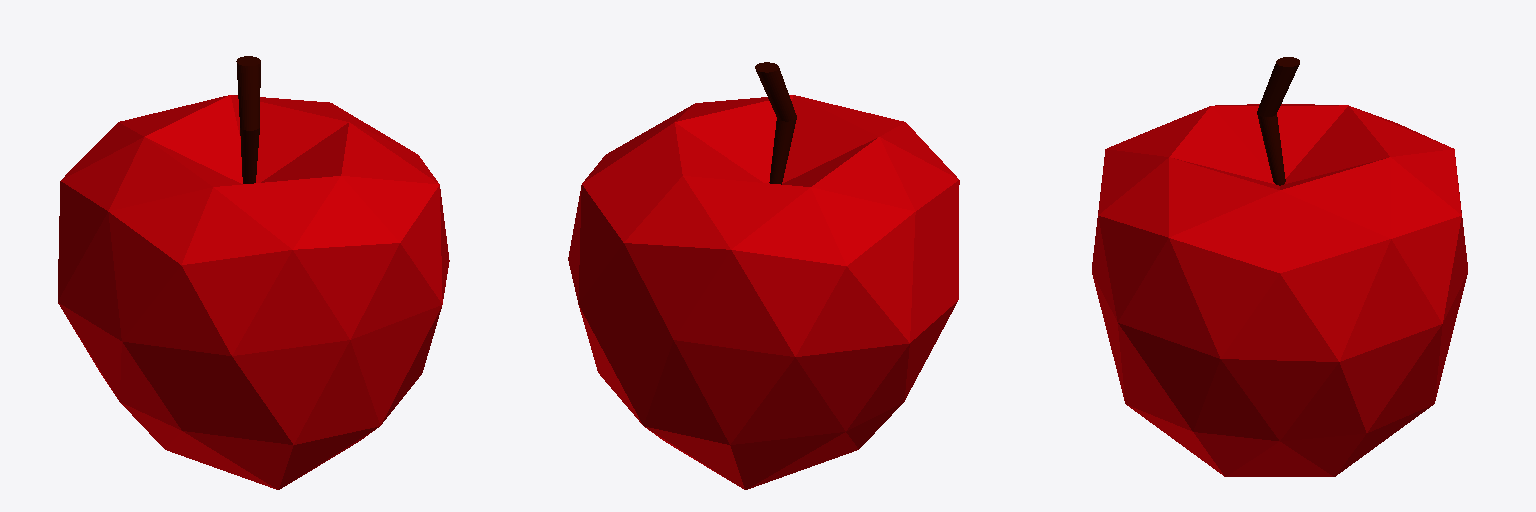
The model's file is apple.obj.
The picture shows the model from 3 angles: view 1: azimuth 30°, elevation 25°; view 2: azimuth 150°, elevation 25°; view 3: azimuth 270°, elevation 25°; orthographic projection.
Visible parts, largest first — view 1: Esfera_geodésica; view 2: Esfera_geodésica; view 3: Esfera_geodésica.
Boxes of the visible parts, x1,y1,x2,y2 form: Esfera_geodésica: [58, 56, 449, 489]; Esfera_geodésica: [568, 62, 959, 489]; Esfera_geodésica: [1092, 57, 1467, 476].
Bounding box in the file's own units: 2.01 × 2.18 × 1.93.